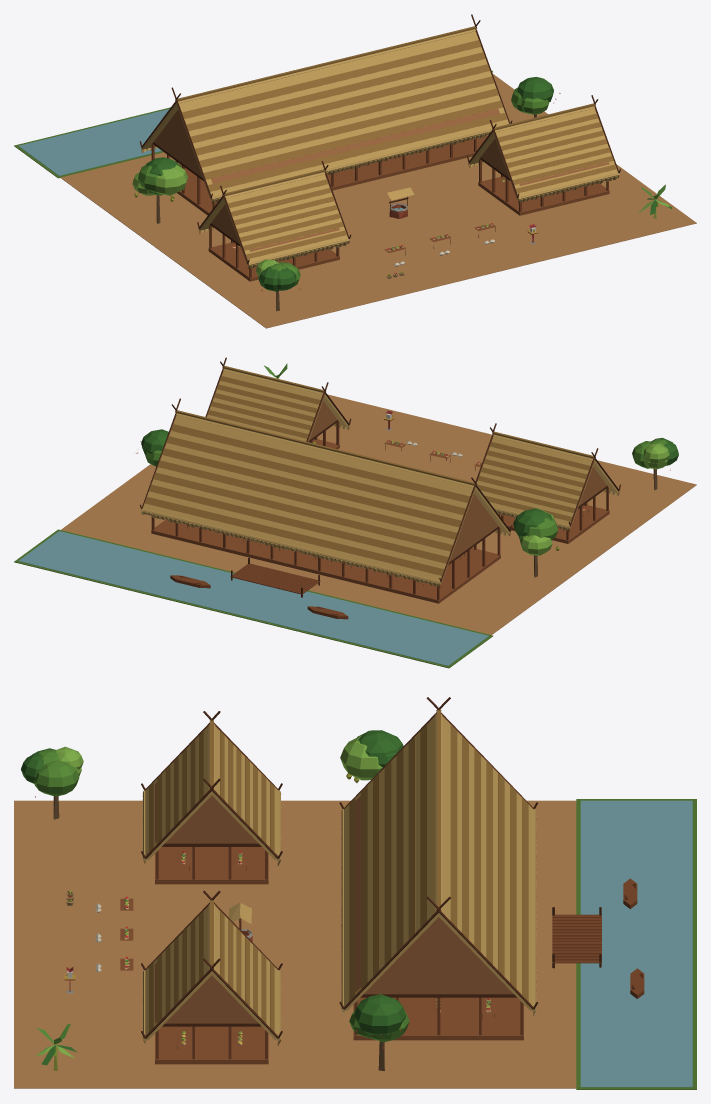
Rendered from market.glb.
The picture shows the model from 3 angles, top to bottom: view 1: azimuth 30°, elevation 25°; view 2: azimuth 150°, elevation 25°; view 3: azimuth 270°, elevation 25°; orthographic projection. The views are drawn at different scales.
Visible parts, largest first — view 1: body; view 2: body; view 3: body.
Boxes of the visible parts, x1,y1,x2,y2 form: body: (14, 14, 696, 328); body: (14, 357, 696, 668); body: (14, 697, 696, 1089).
Size of the model in its own units: 48.4 by 11.82 by 48.15.
